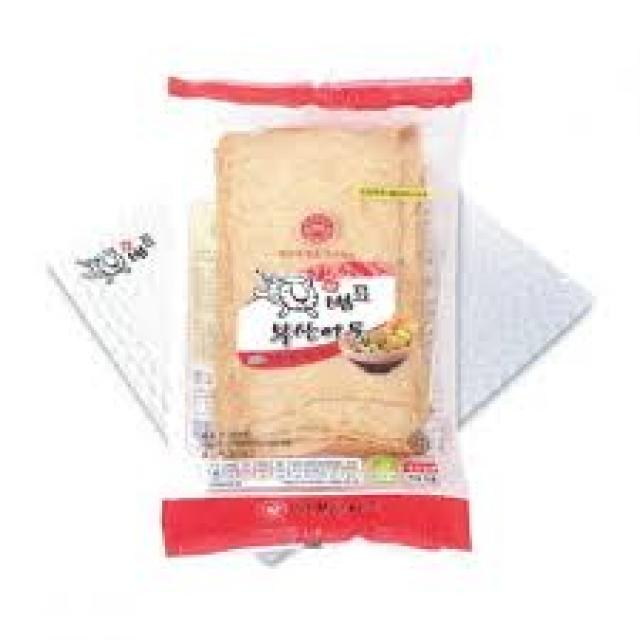fish_cake: (162, 74, 467, 540)
